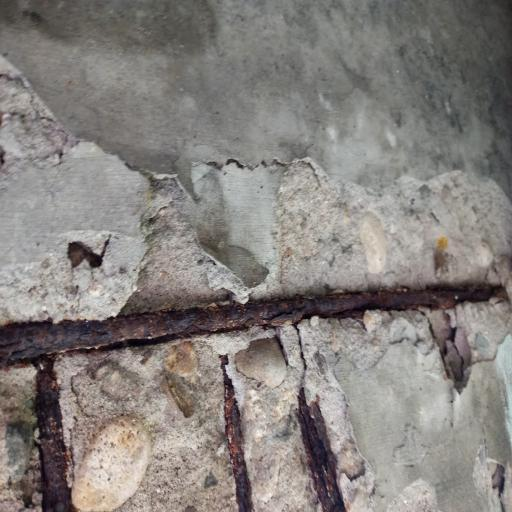exposed_rebar: (0, 288, 503, 512), (298, 388, 344, 512), (220, 356, 253, 512), (69, 242, 104, 267)
